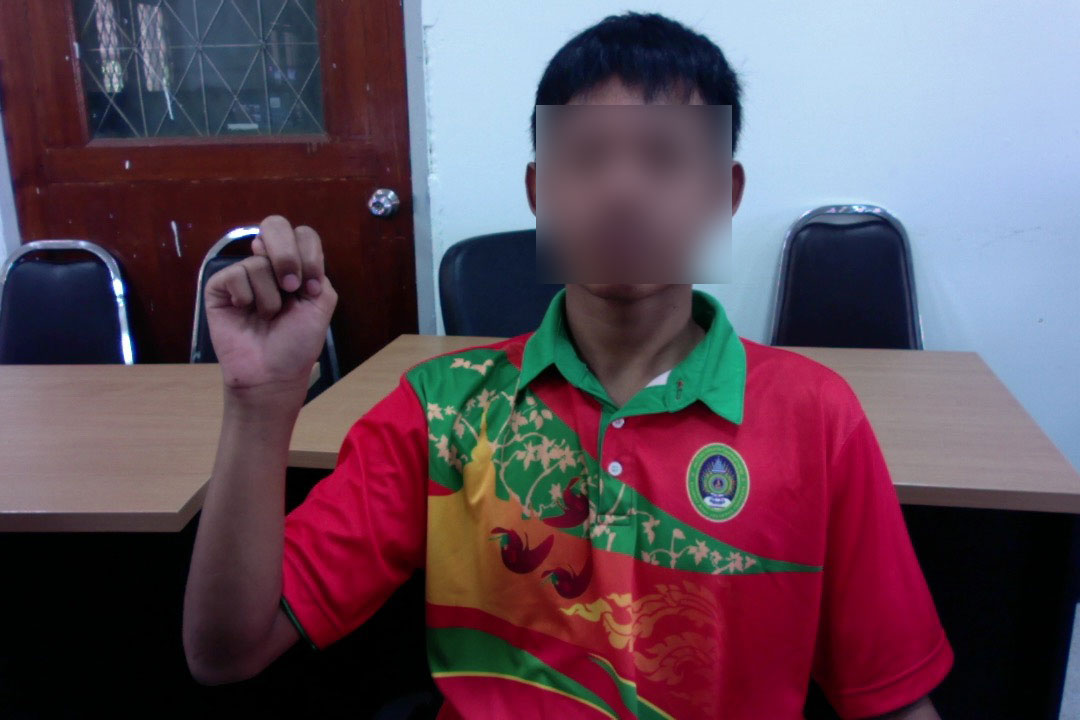nor: (198, 208, 343, 424)
